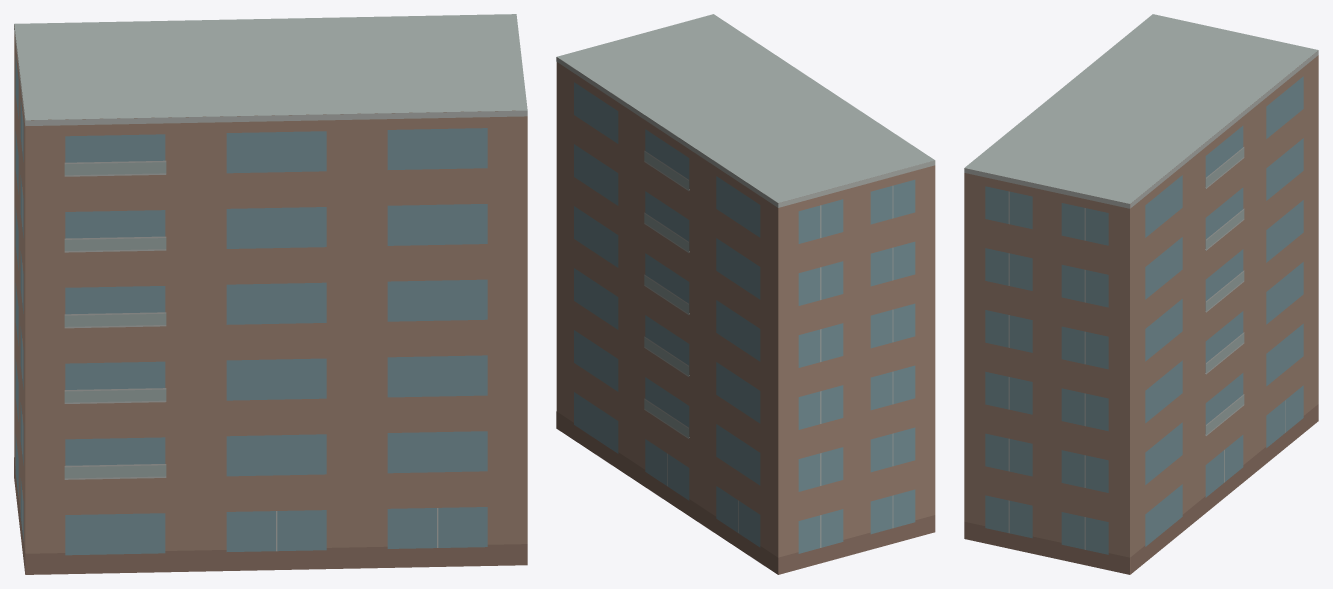
The model's file is survey-upis-32555287.glb.
3 views of the same model, side by side, from view 1: azimuth 30°, elevation 25°; view 2: azimuth 150°, elevation 25°; view 3: azimuth 270°, elevation 25° (orthographic). The views are drawn at different scales.
Visible parts, largest first — view 1: survey-upis-32555287.tmp; view 2: survey-upis-32555287.tmp; view 3: survey-upis-32555287.tmp.
Boxes of the visible parts, x1=… form: survey-upis-32555287.tmp: x1=14, y1=14, x2=527, y2=574; survey-upis-32555287.tmp: x1=556, y1=14, x2=935, y2=574; survey-upis-32555287.tmp: x1=964, y1=14, x2=1318, y2=574.
Bounding box in the file's own units: 20.55 × 18.7 × 16.2.
